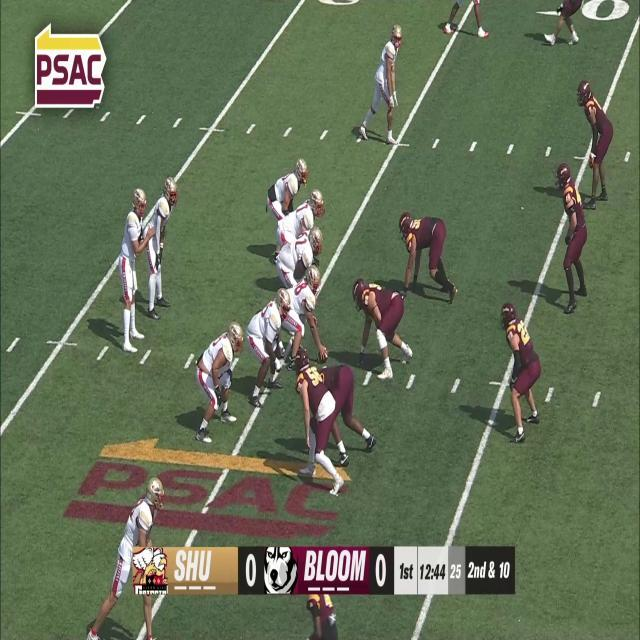football: (318, 349, 330, 362)
